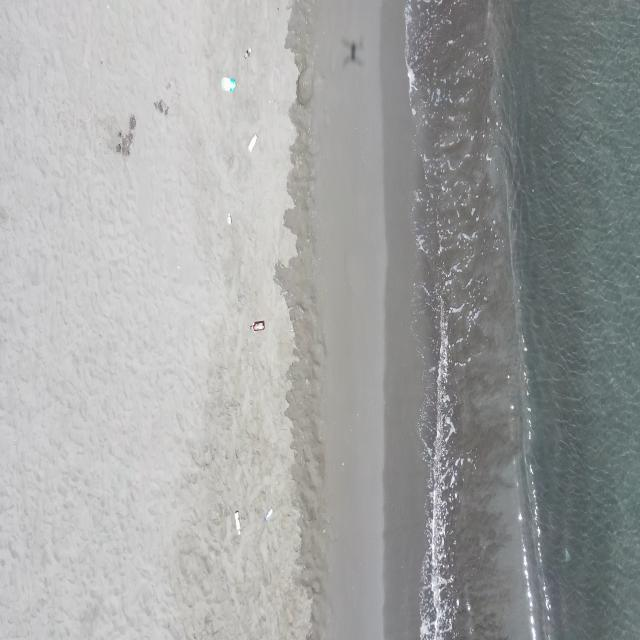Garbage: (115, 115, 134, 155), (116, 131, 131, 155), (220, 75, 236, 91), (155, 100, 167, 115), (233, 510, 240, 533), (247, 134, 256, 151), (252, 320, 263, 331), (128, 114, 136, 129), (264, 508, 272, 520), (243, 49, 251, 57), (227, 212, 231, 223)
